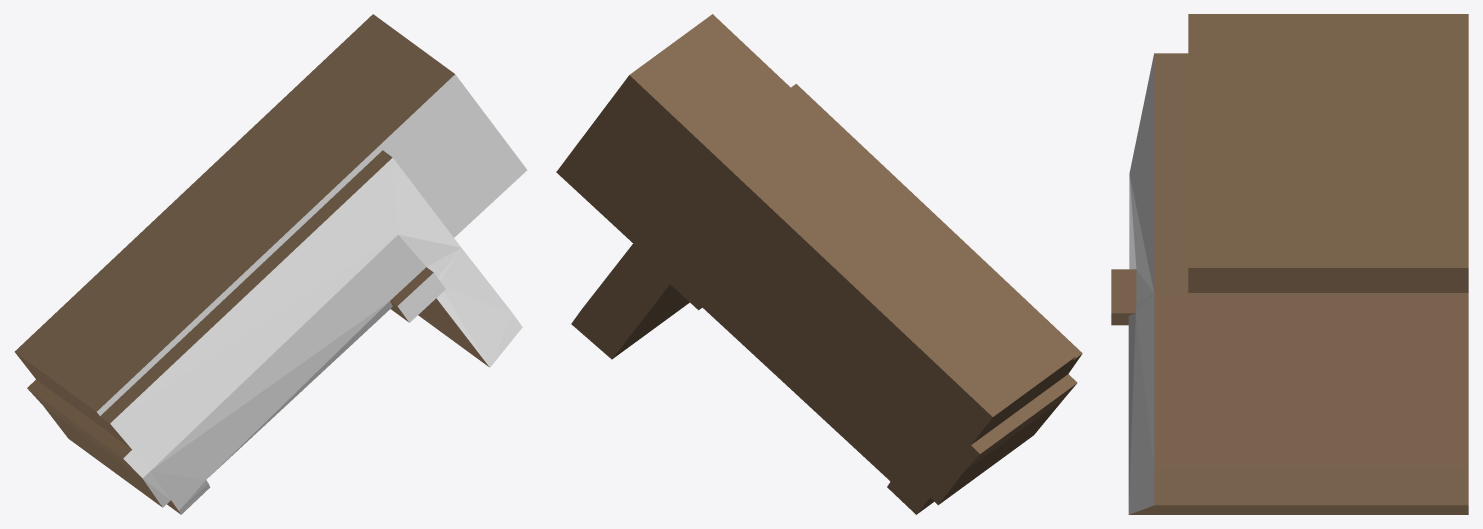
File: Groupe9951518.obj
3 renders of one model, left to right at view 1: azimuth 30°, elevation 25°; view 2: azimuth 150°, elevation 25°; view 3: azimuth 270°, elevation 25°, orthographic. The views are drawn at different scales.
Parts seen in each view (by area): view 1: City_Groupe9951518; view 2: City_Groupe9951518; view 3: City_Groupe9951518.
Boxes of the visible parts, box(x1,y1,x2,y2) form: City_Groupe9951518: box(14, 14, 527, 514); City_Groupe9951518: box(556, 14, 1082, 514); City_Groupe9951518: box(1111, 14, 1468, 514).
Bounding box in the file's own units: 4365 × 3534 × 1838.
